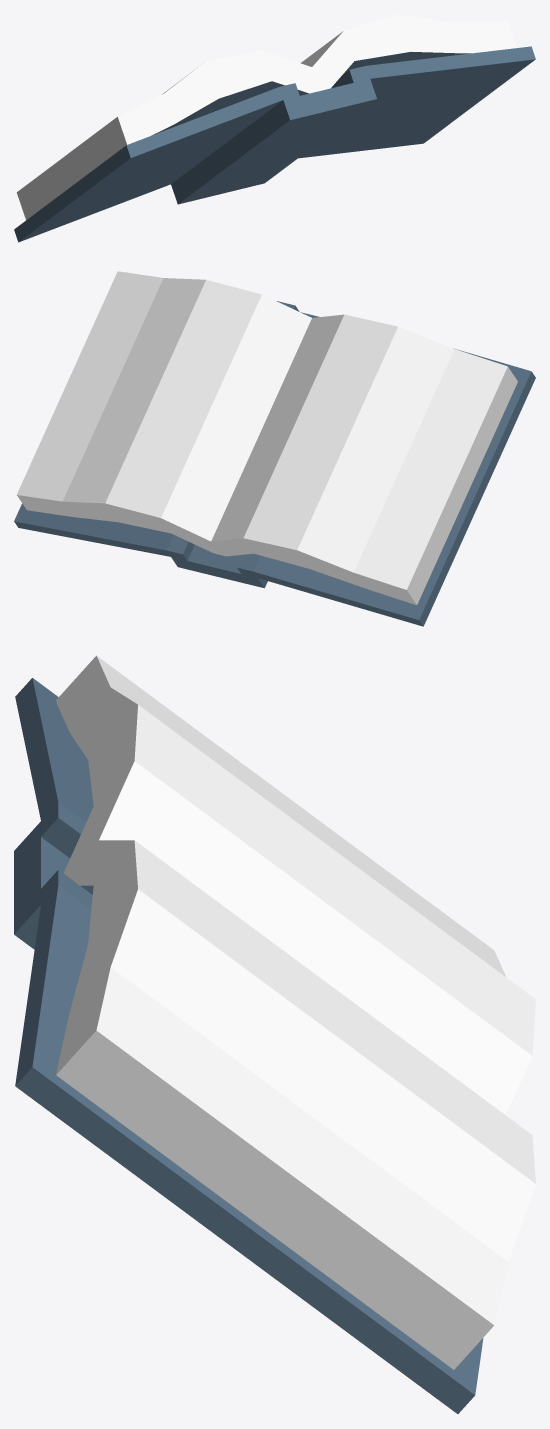
3 views of the same model, one above another, from view 1: azimuth 30°, elevation 25°; view 2: azimuth 150°, elevation 25°; view 3: azimuth 270°, elevation 25° (orthographic). The views are drawn at different scales.
Visible parts, largest first — view 1: obenbucc; view 2: obenbucc; view 3: obenbucc.
Boxes of the visible parts, x1,y1,x2,y2 form: obenbucc: (14,14,535,242); obenbucc: (14,271,535,626); obenbucc: (14,655,535,1413).
Bounding box in the file's own units: 264 × 134 × 150.
